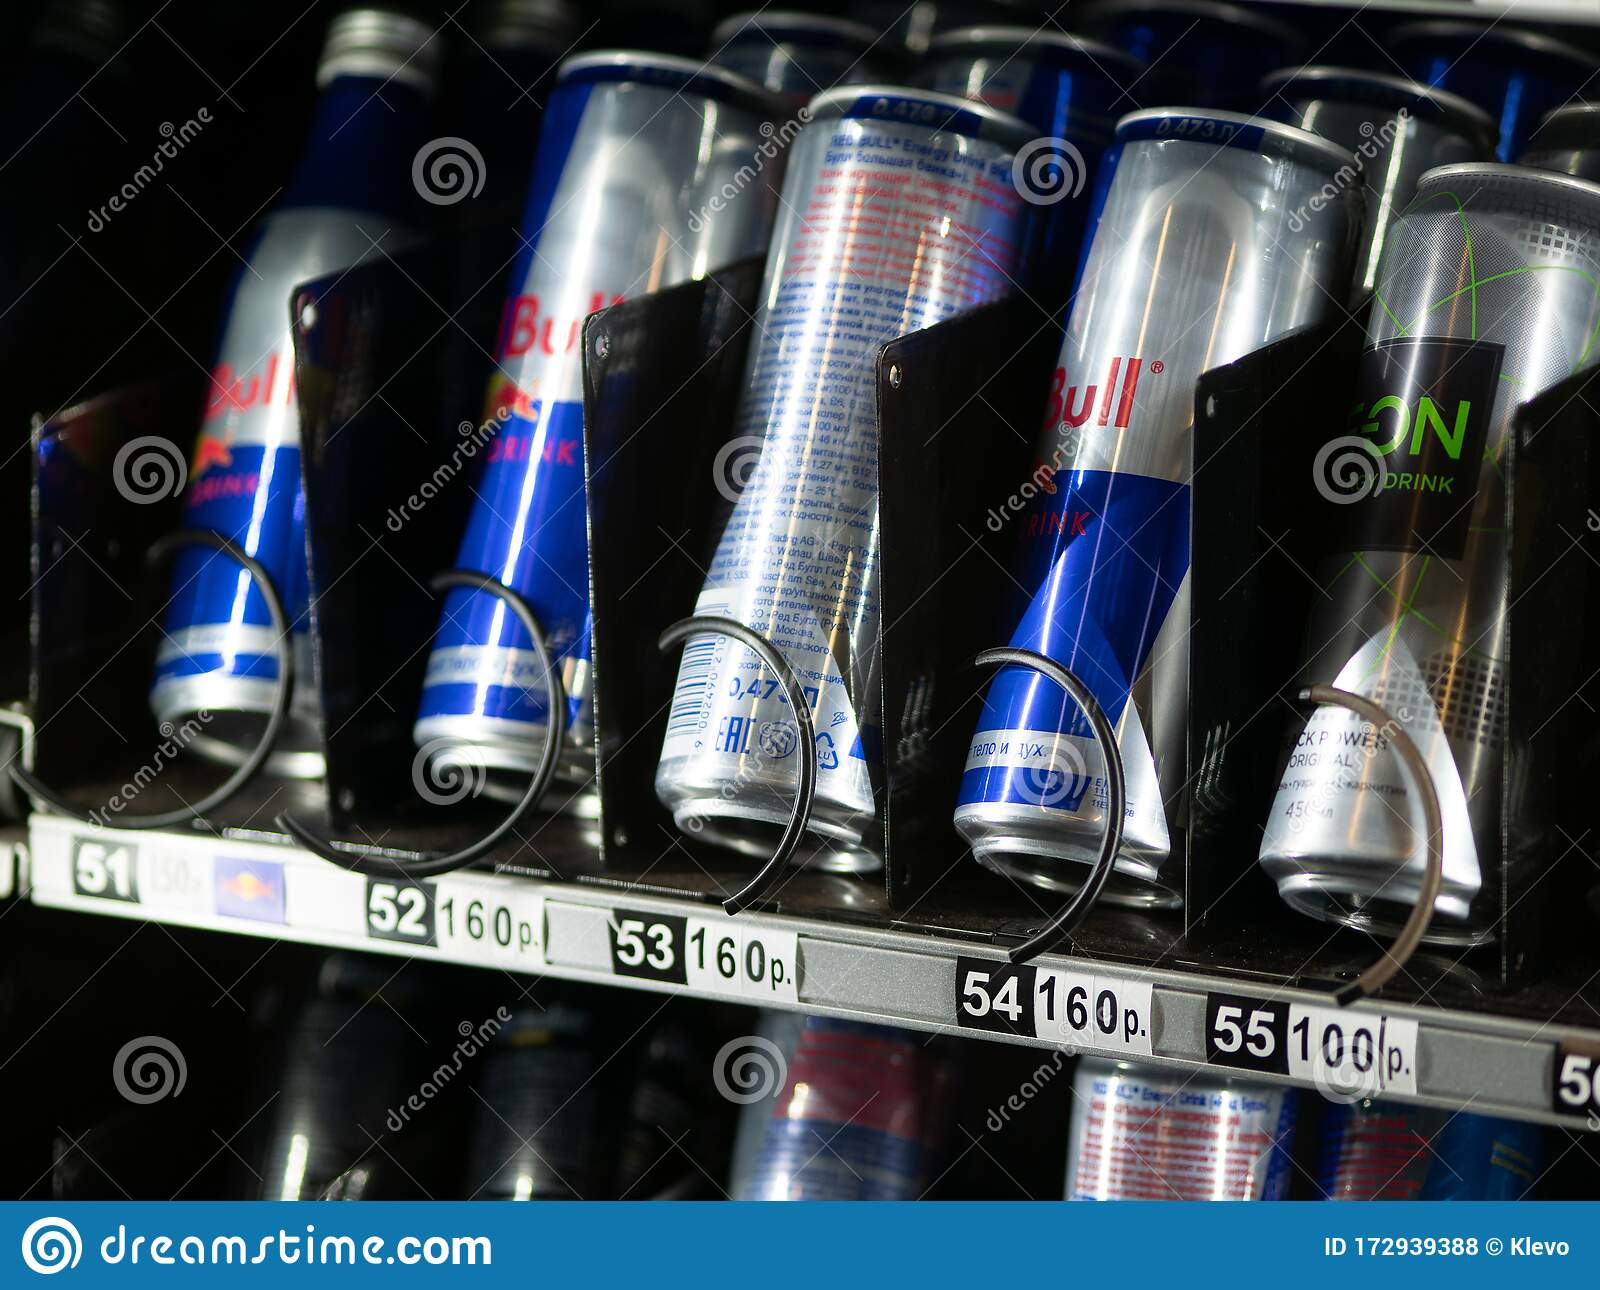redbull: (432, 62, 662, 848), (996, 117, 1207, 954)
